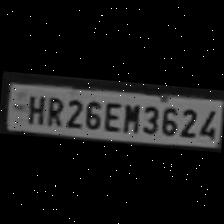2: (61, 96, 85, 130), (176, 104, 199, 138)
3: (138, 102, 160, 135)
4: (196, 106, 220, 140)
6: (80, 97, 102, 131), (157, 104, 180, 136)
E: (100, 99, 122, 133)
H: (23, 92, 47, 125)
M: (119, 100, 142, 134)
R: (43, 92, 65, 128)
